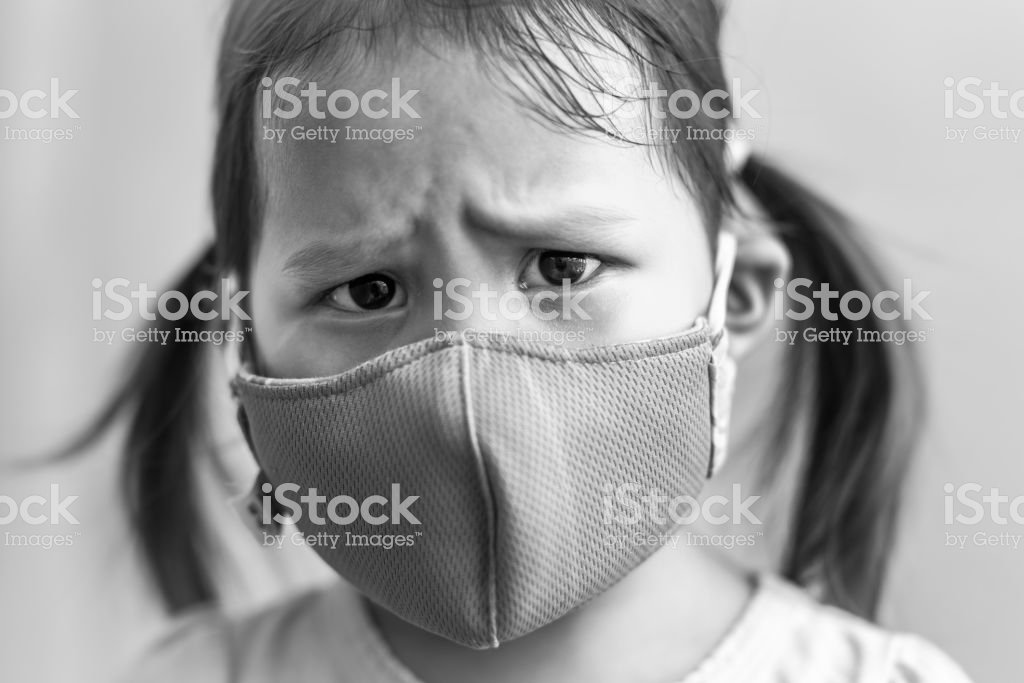mask: (184, 8, 841, 647)
